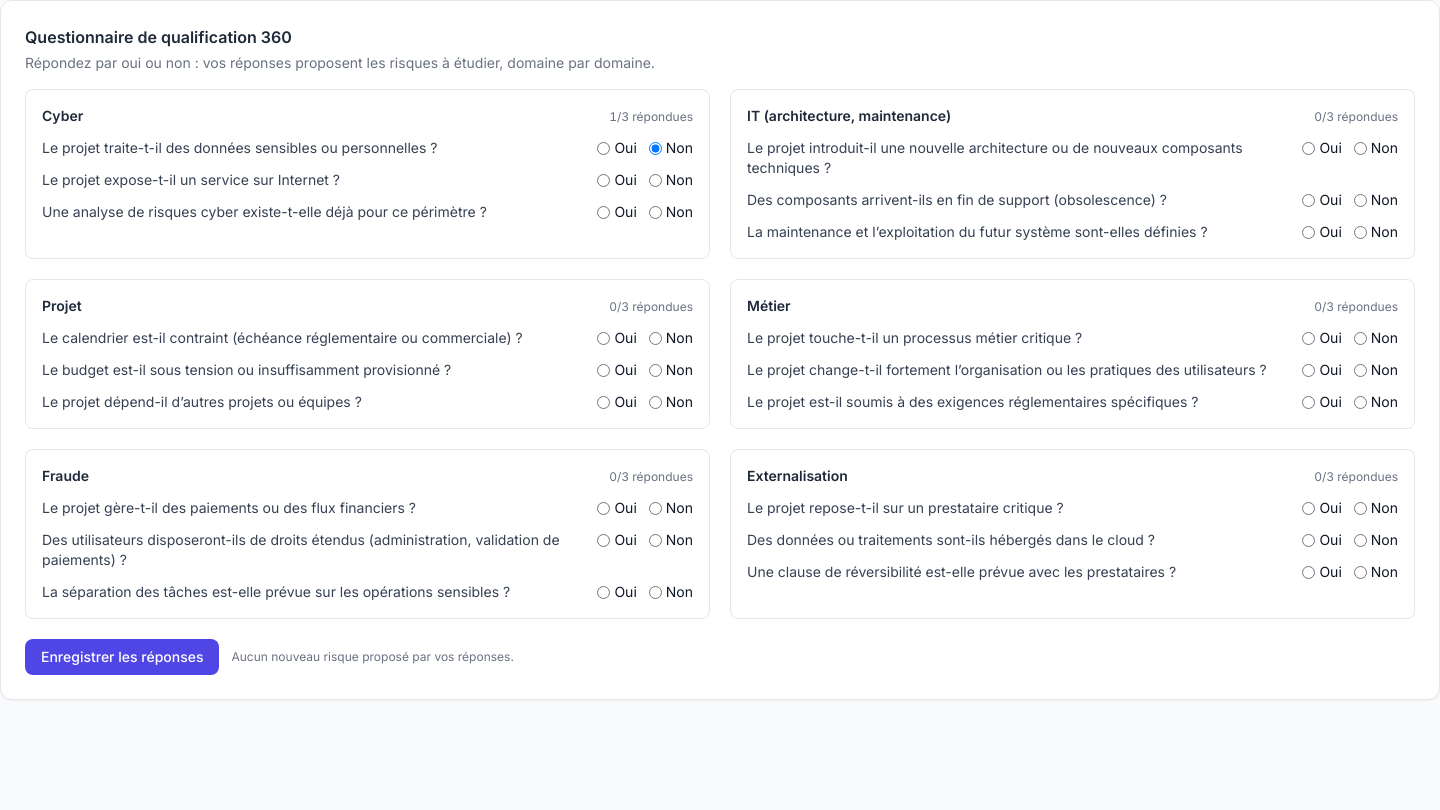
Test case: Questionnaire360 › six domaines, progression, enregistrement des réponses puis risques proposés
Expected: the heading "Cyber" is shown, [42,106,83,126]
Expected: the heading "Projet" is shown, [42,296,82,316]
Click the 3rd radio button labelled "Oui".
click(604, 180)  # box [597,174,610,186]
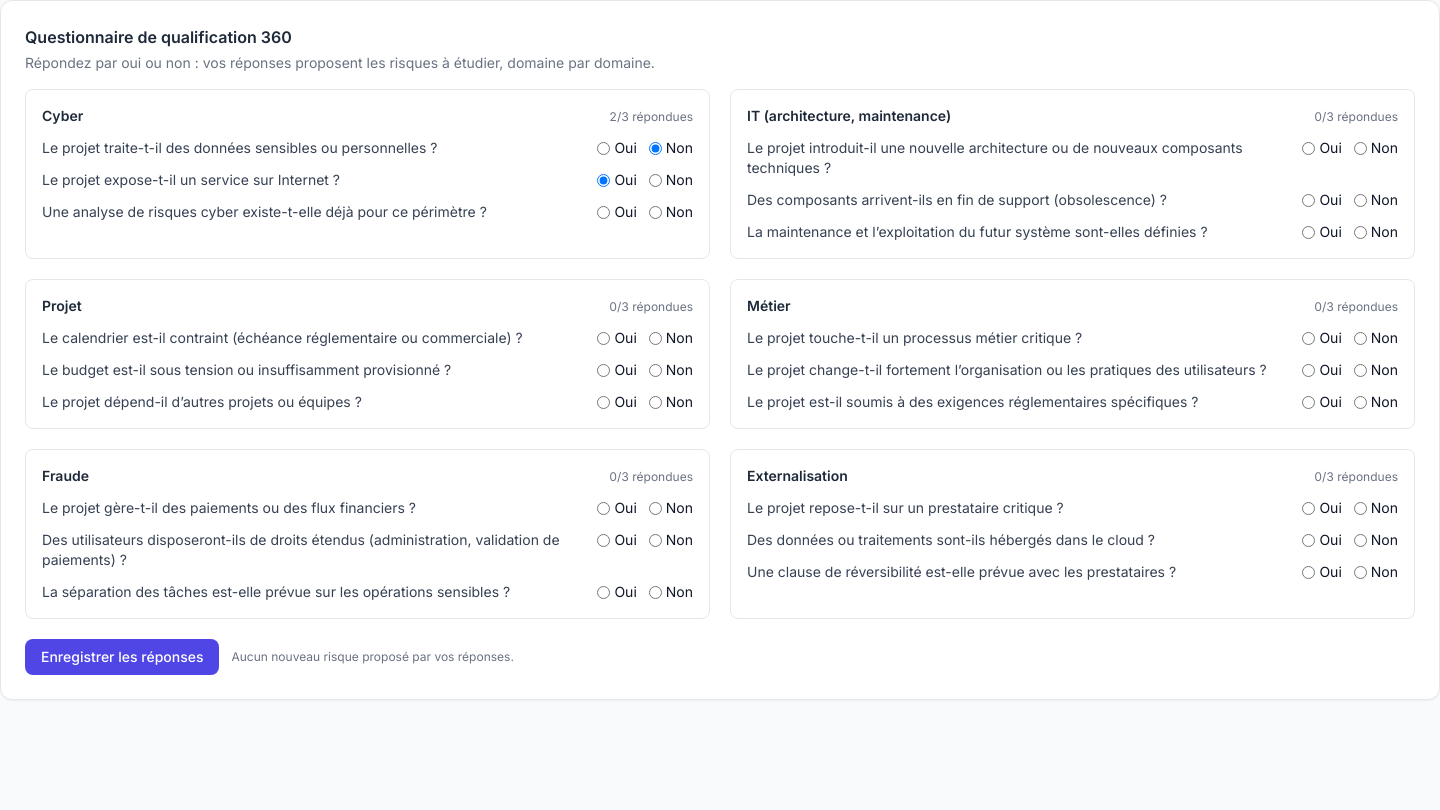
Click the button "Enregistrer les réponses".
click(122, 657)  # box [25,639,220,675]
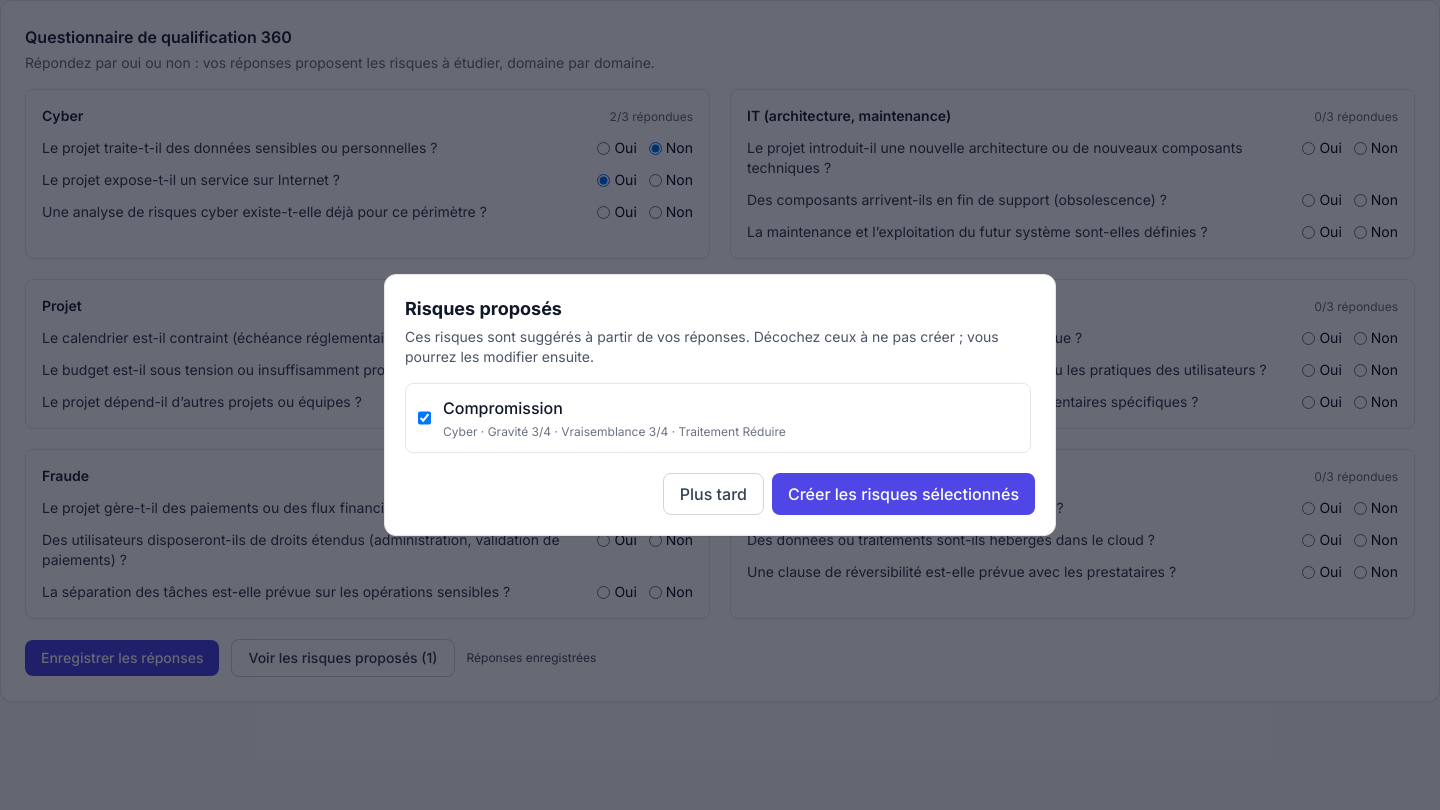
Result: the button "Voir les risques proposés (1)" is shown at [232,639,454,677]
